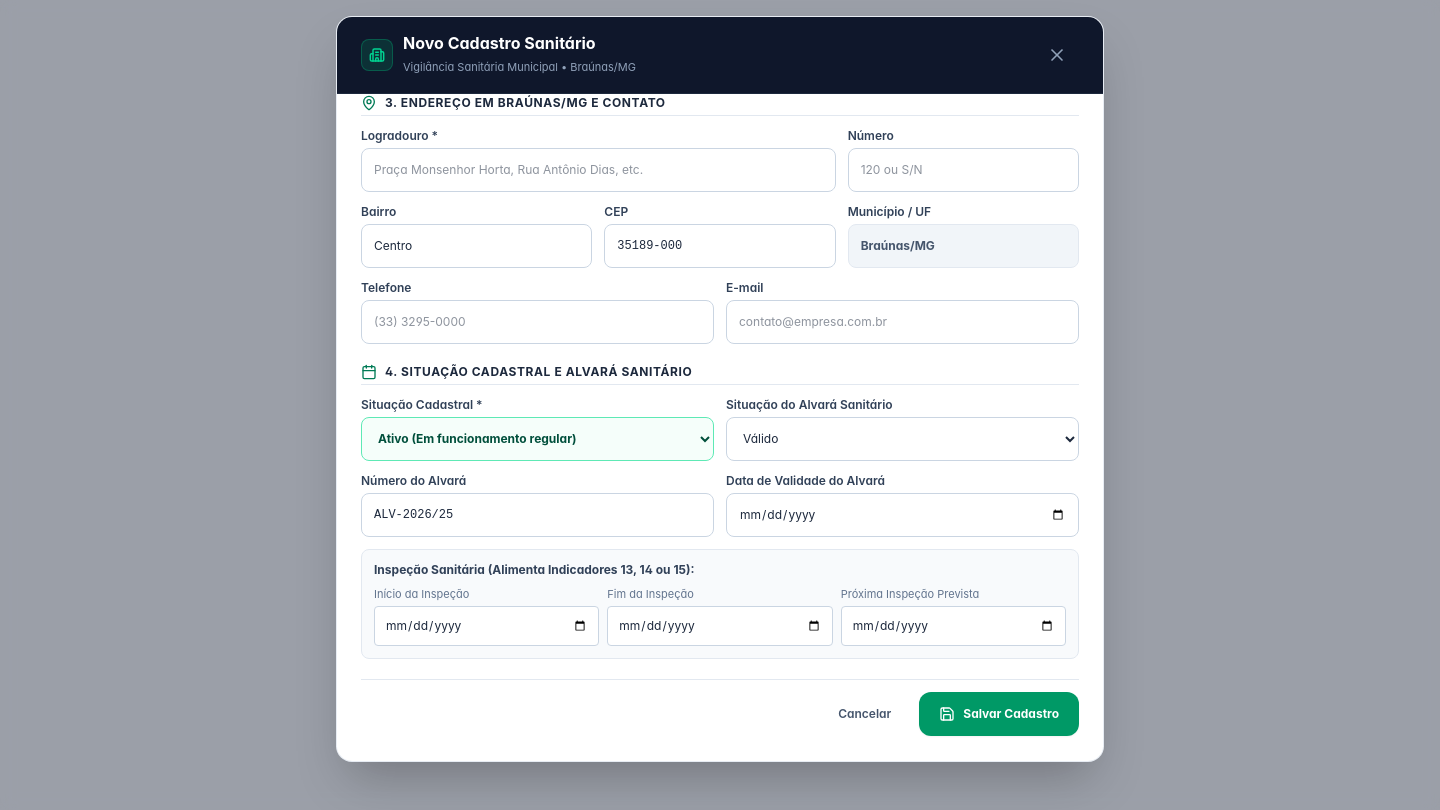
Scenario: EstabelecimentoModal - Unit Tests › exibe erros de validacao ao submeter formulario em branco
(page scrolled)
Click the button "Salvar Cadastro" at (999, 714), box [919,692,1079,736]
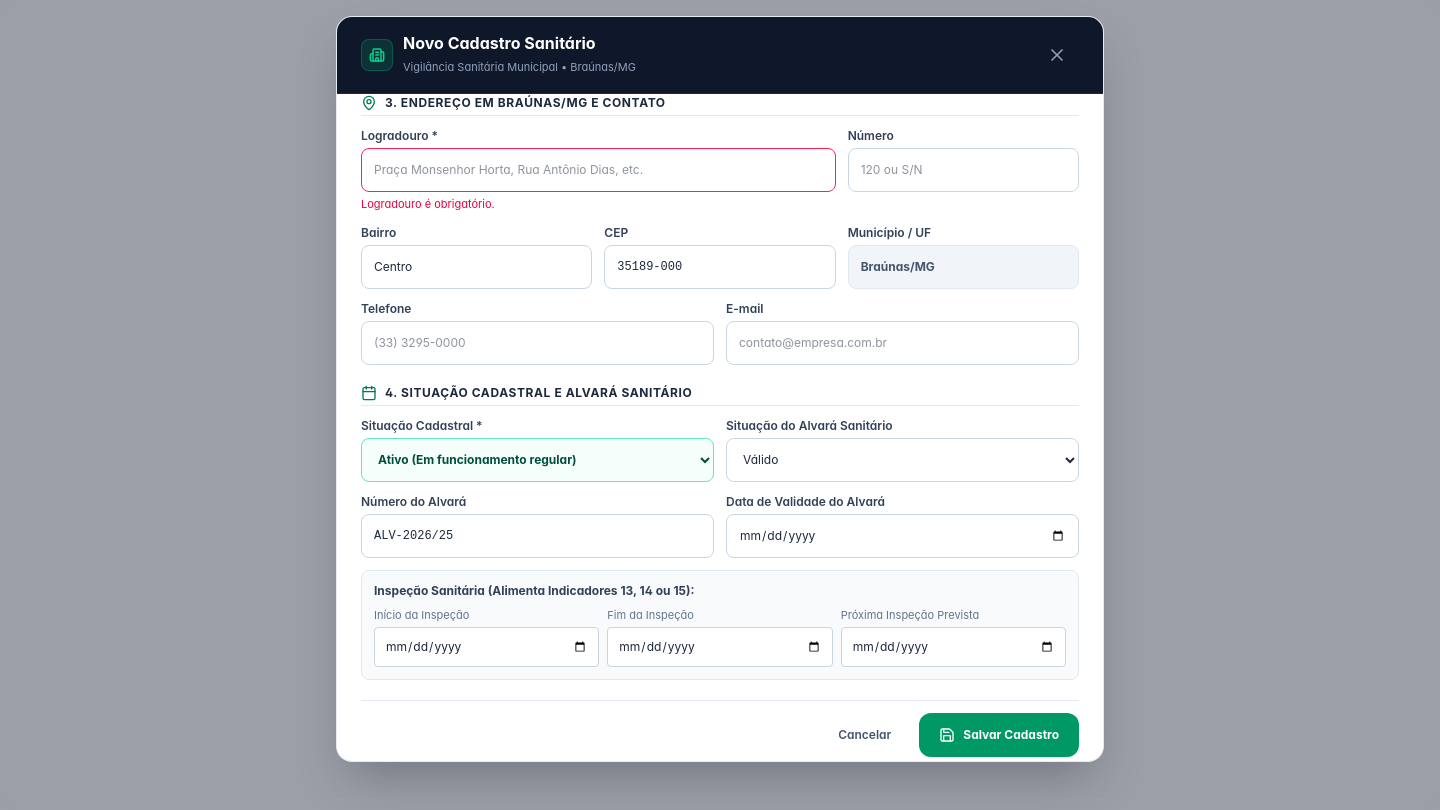
Expected: the text "Logradouro é obrigatório." is shown, [361,197,495,211]
